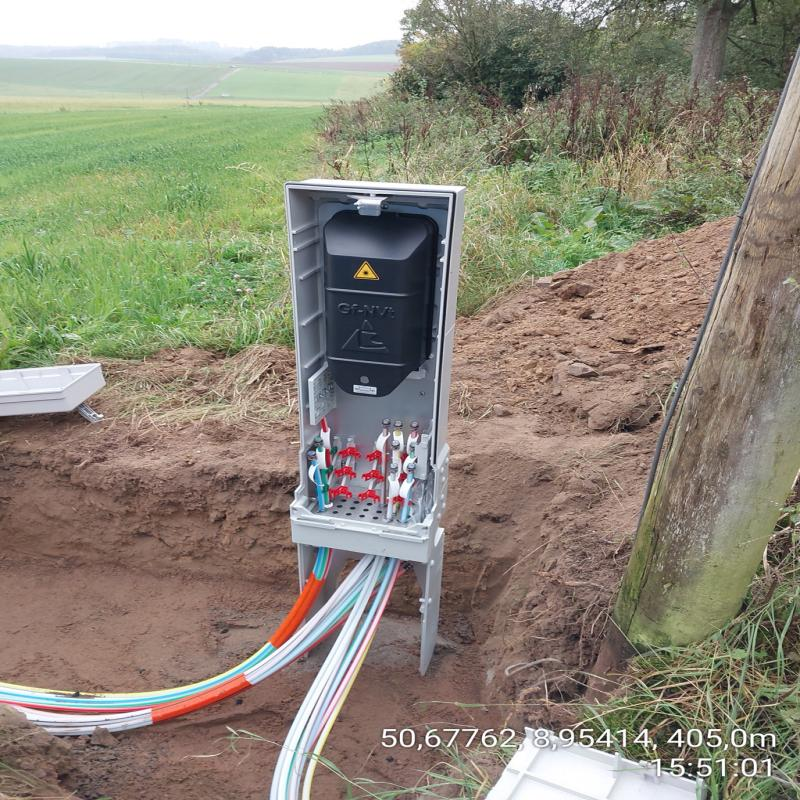NT-Gehause: (293, 180, 462, 555)
